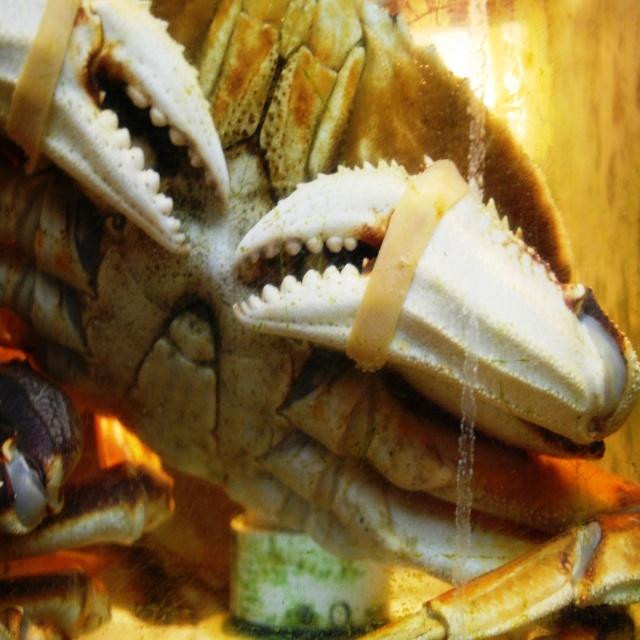Crab: (0, 1, 640, 639)
